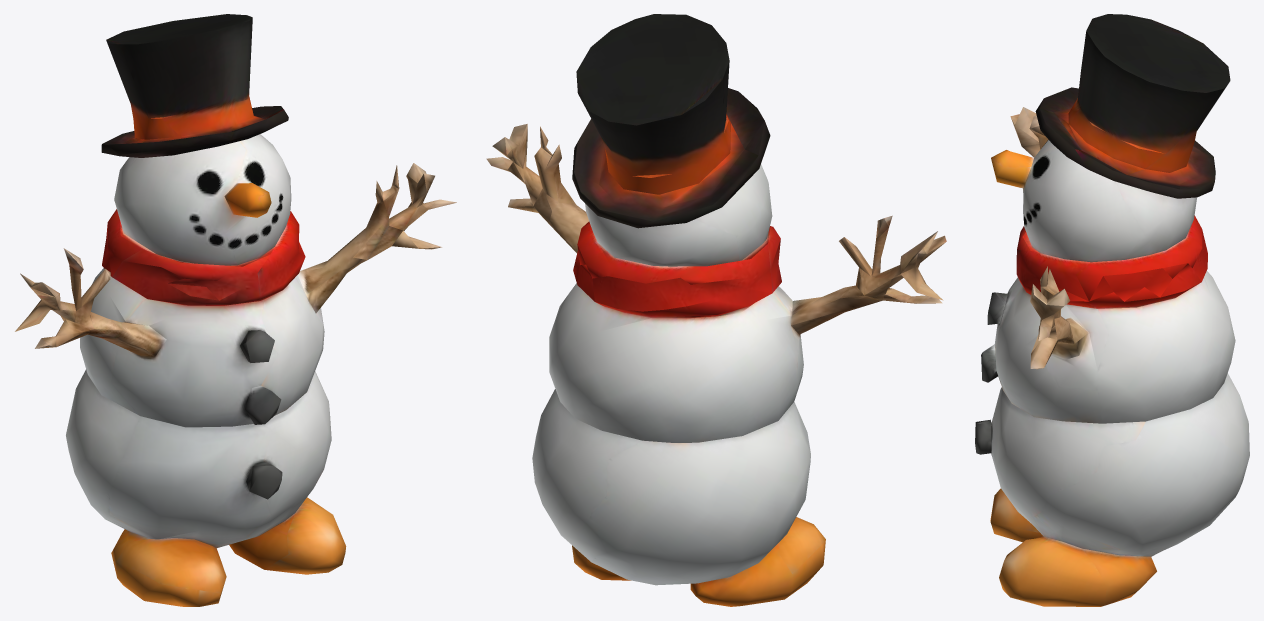
The model's file is snowmanBig.glb.
3 renders of one model, left to right at view 1: azimuth 30°, elevation 25°; view 2: azimuth 150°, elevation 25°; view 3: azimuth 270°, elevation 25°, orthographic. The views are drawn at different scales.
Visible parts, largest first — view 1: model; view 2: model; view 3: model.
Part boxes in pixels (x1=…): model: x1=15, y1=14, x2=456, y2=606; model: x1=486, y1=14, x2=946, y2=606; model: x1=975, y1=14, x2=1249, y2=606.
Bounding box in the file's own units: 1.63 × 1.89 × 0.8869.
1 material, 1 textured.
